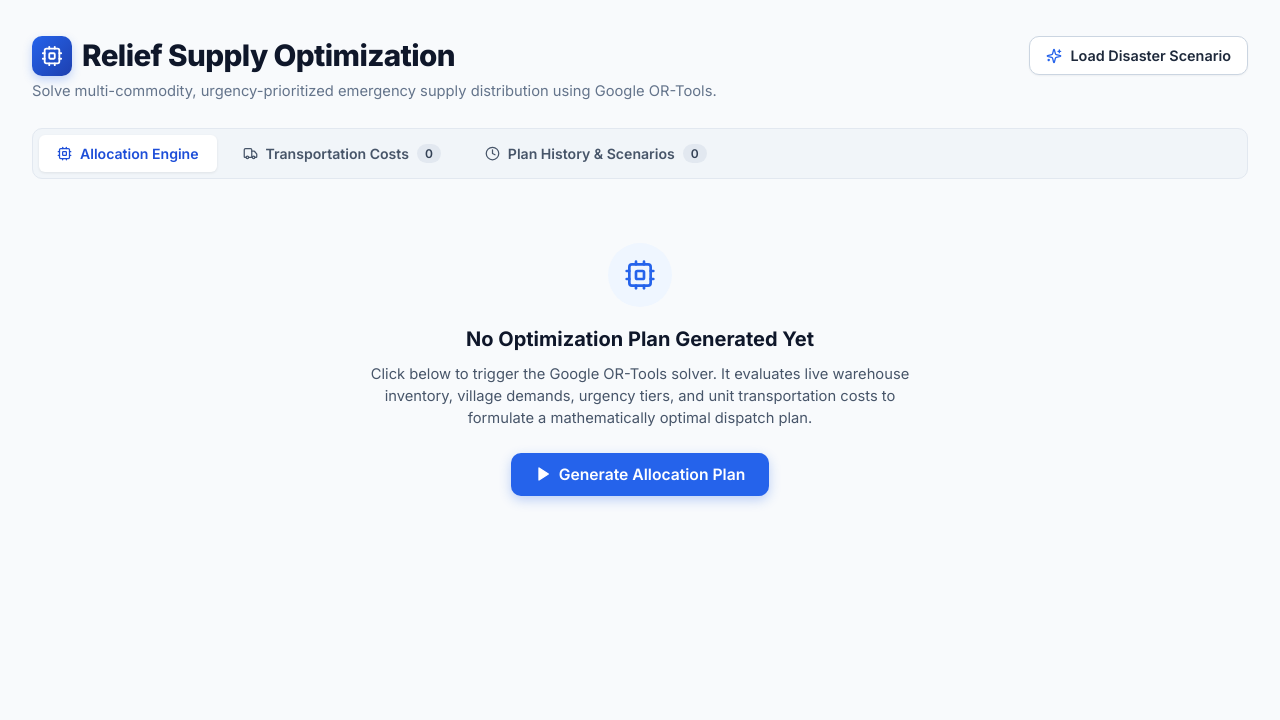
Optimization Engine Page (OptimizationPage.jsx) › loads warehouses and villages into transportation cost modal dropdowns (Priority 1 fix verification)
The image size is (1280, 720).
Note: Switch to Transportation Costs sub-tab
What coordinates should you click on to do the following:
click the button "Transportation Costs 0"
I would click on:
 (342, 153)
Its box is [225,134,459,172].
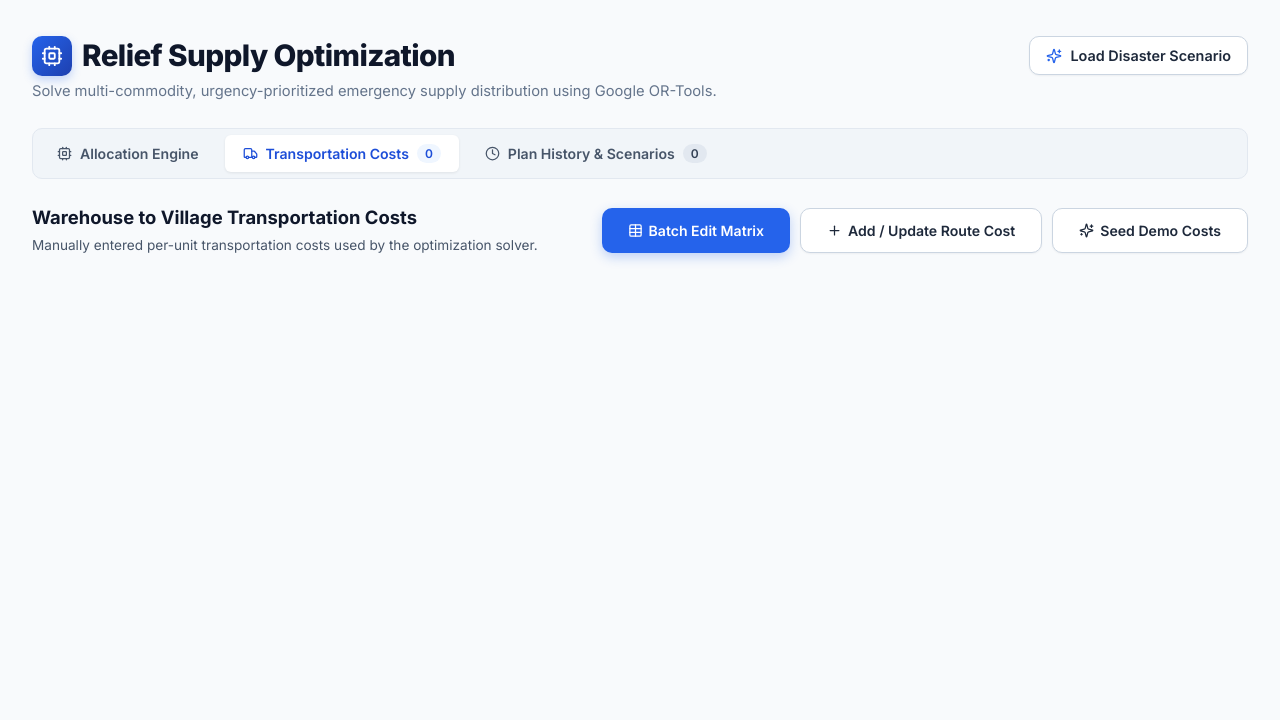
Note: Click Add Cost button
What coordinates should you click on to do the following:
click the button "Add / Update Route Cost"
I would click on:
 (921, 230)
Its box is [800,208,1042,253].
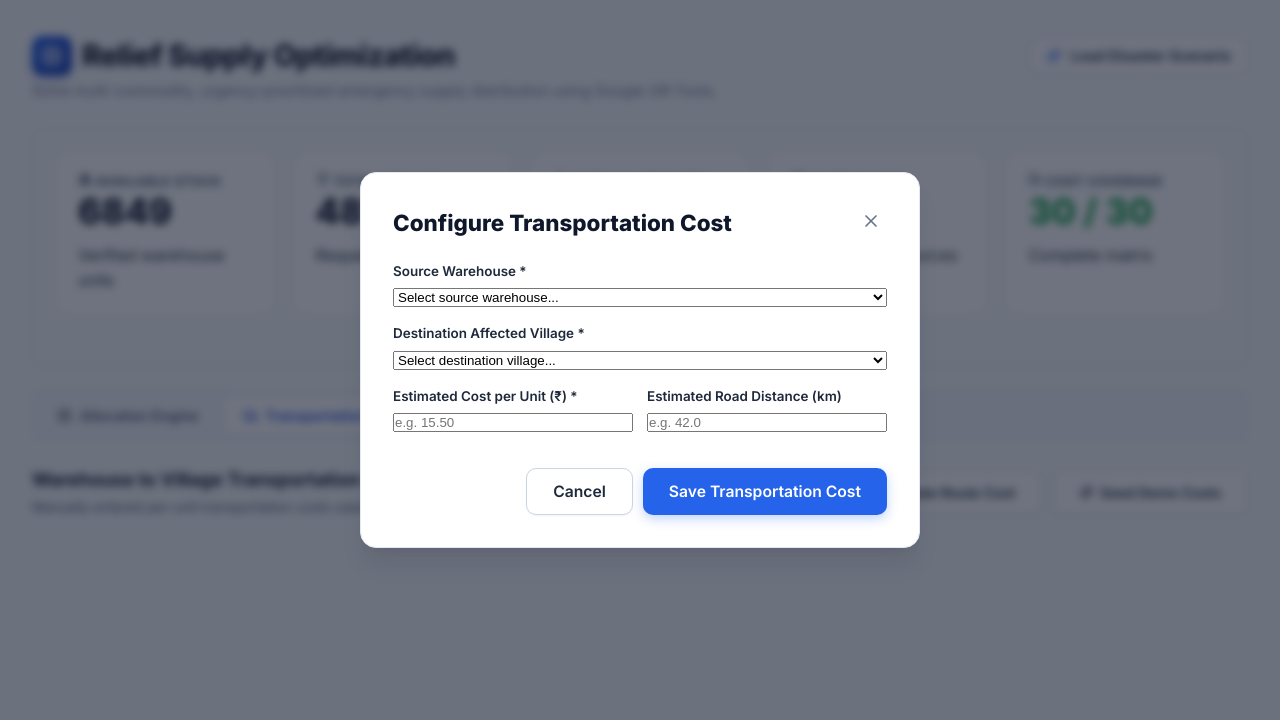
Result: the heading "Configure Transportation Cost" is shown at [393,205,732,241]
